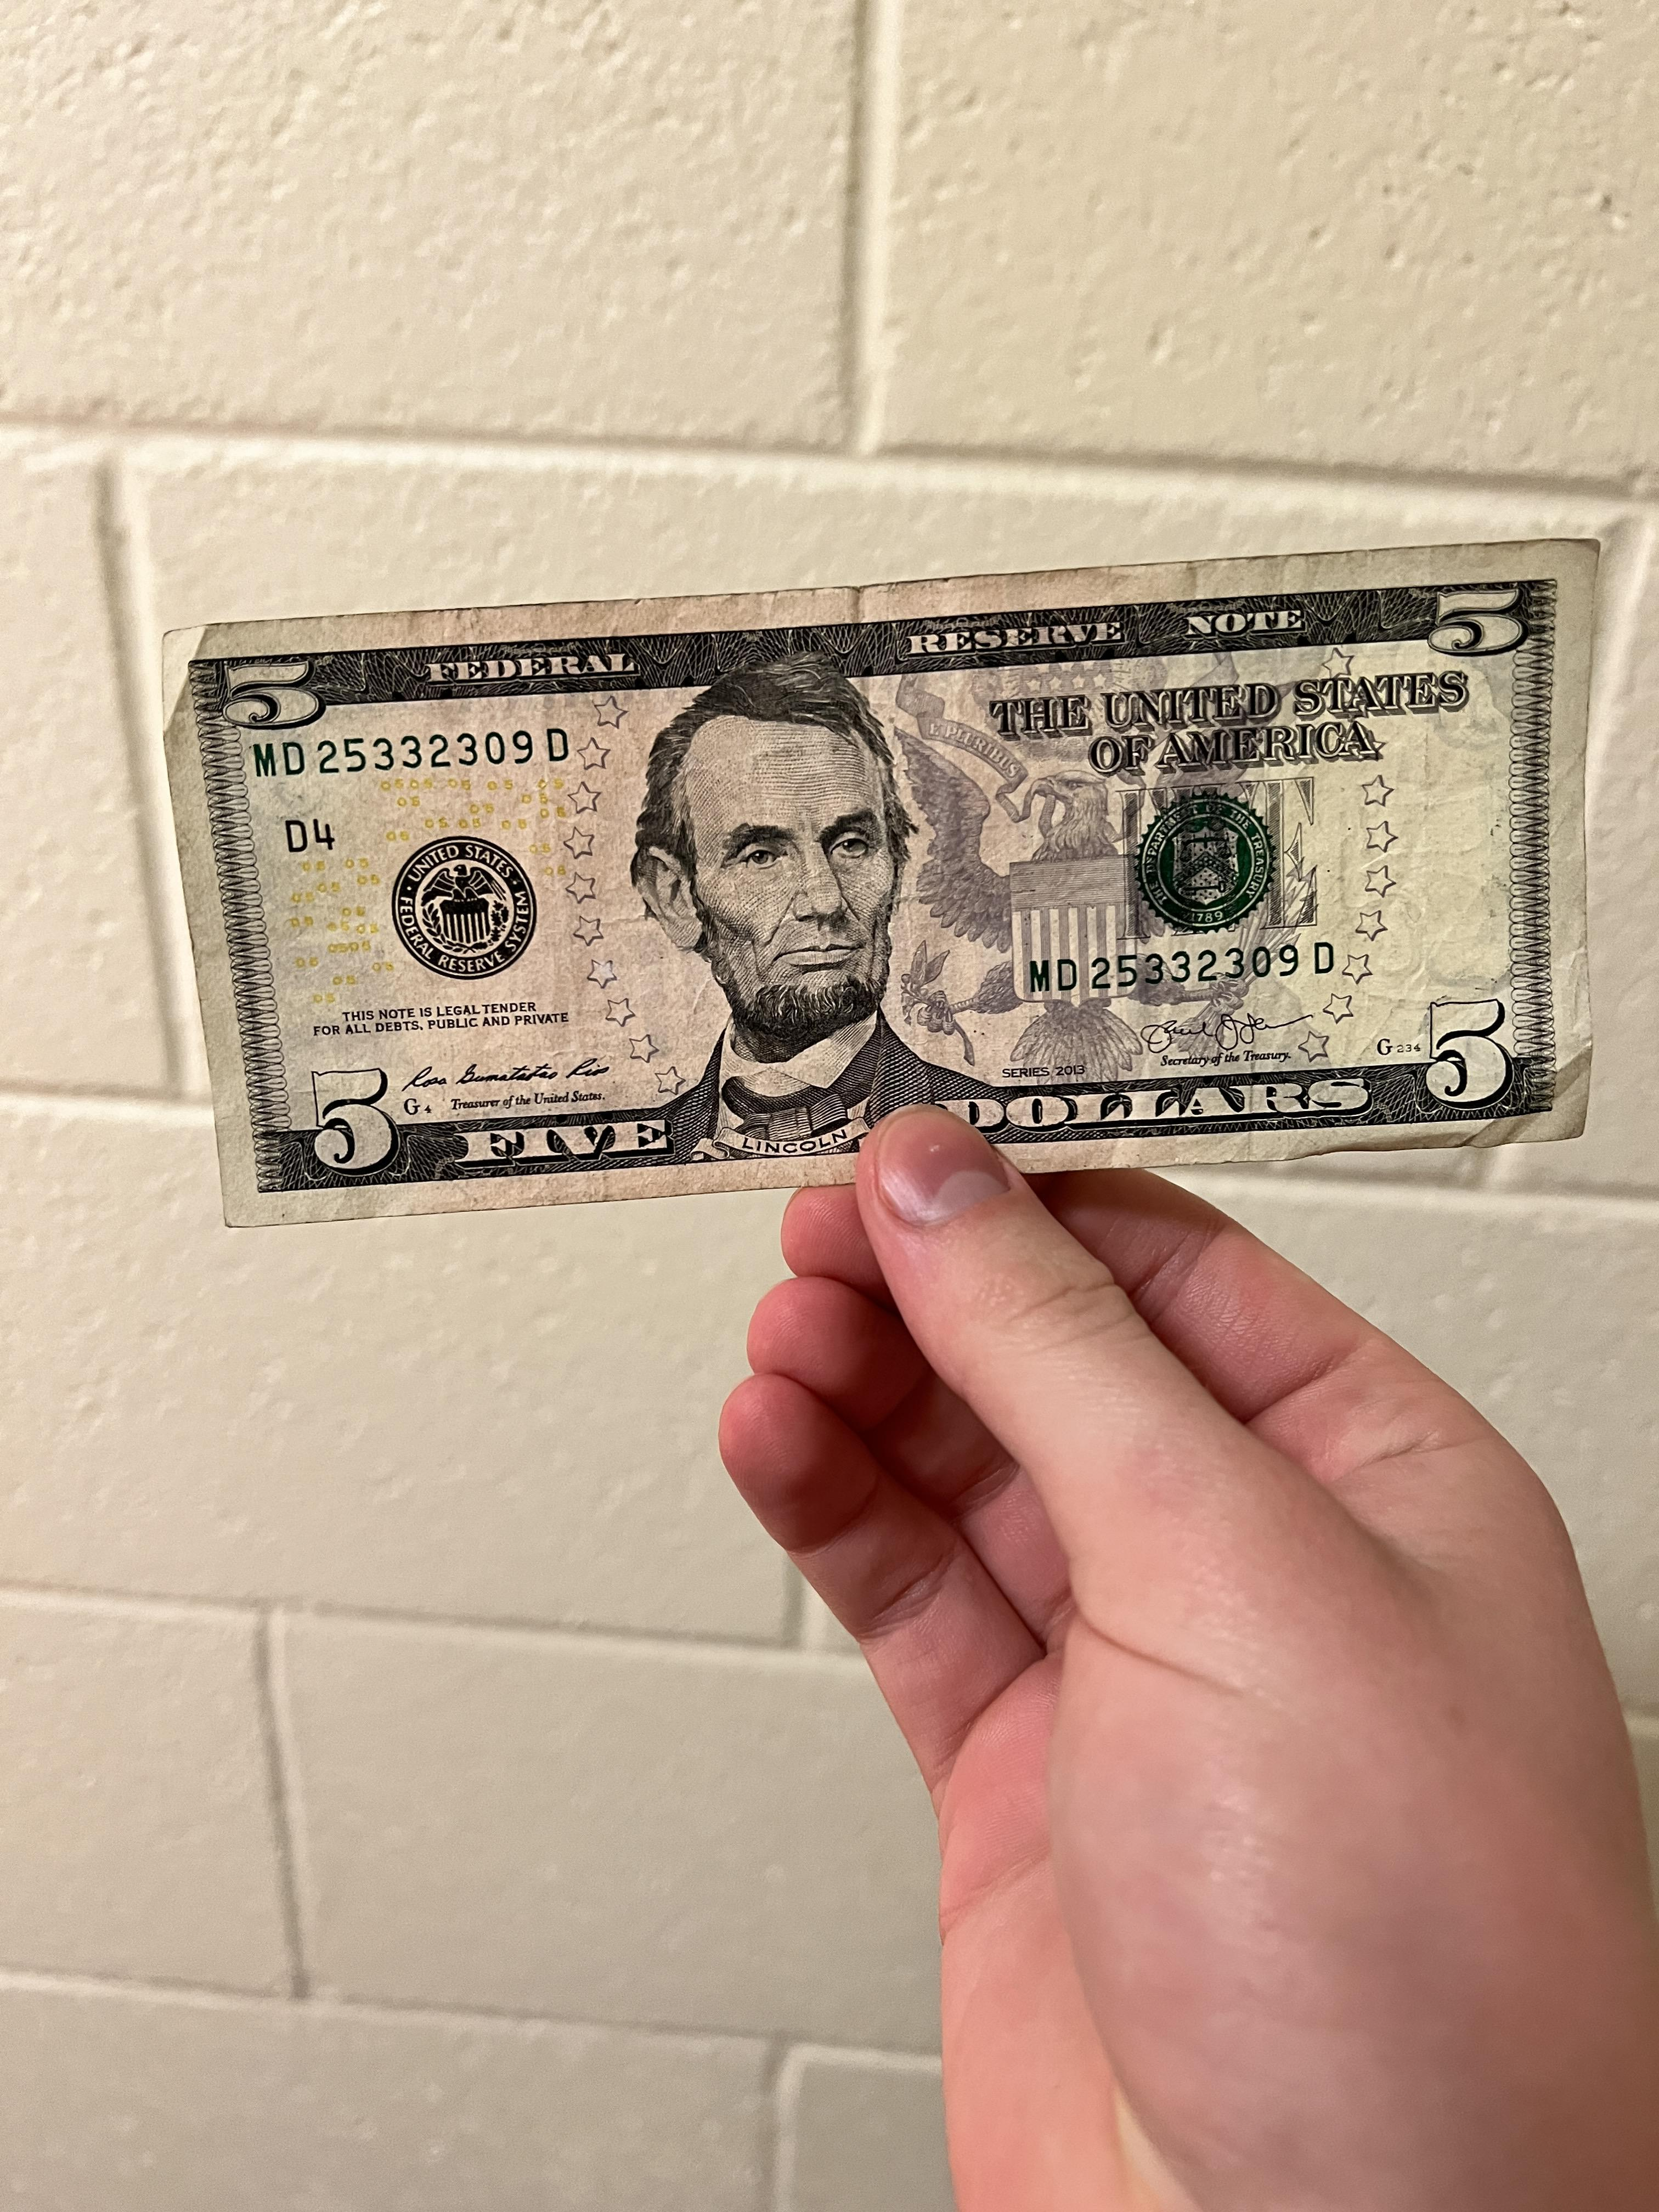FiveBill: (145, 573, 1598, 1167)
